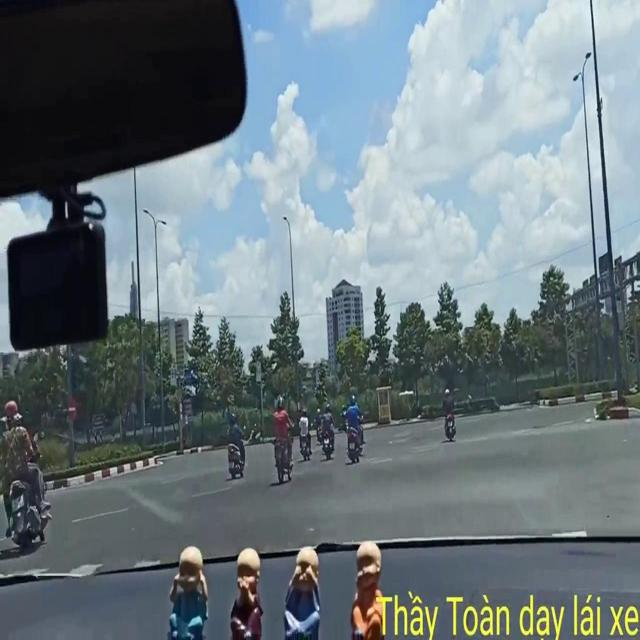Cấm đi ngược chiều: (61, 393, 77, 416)
